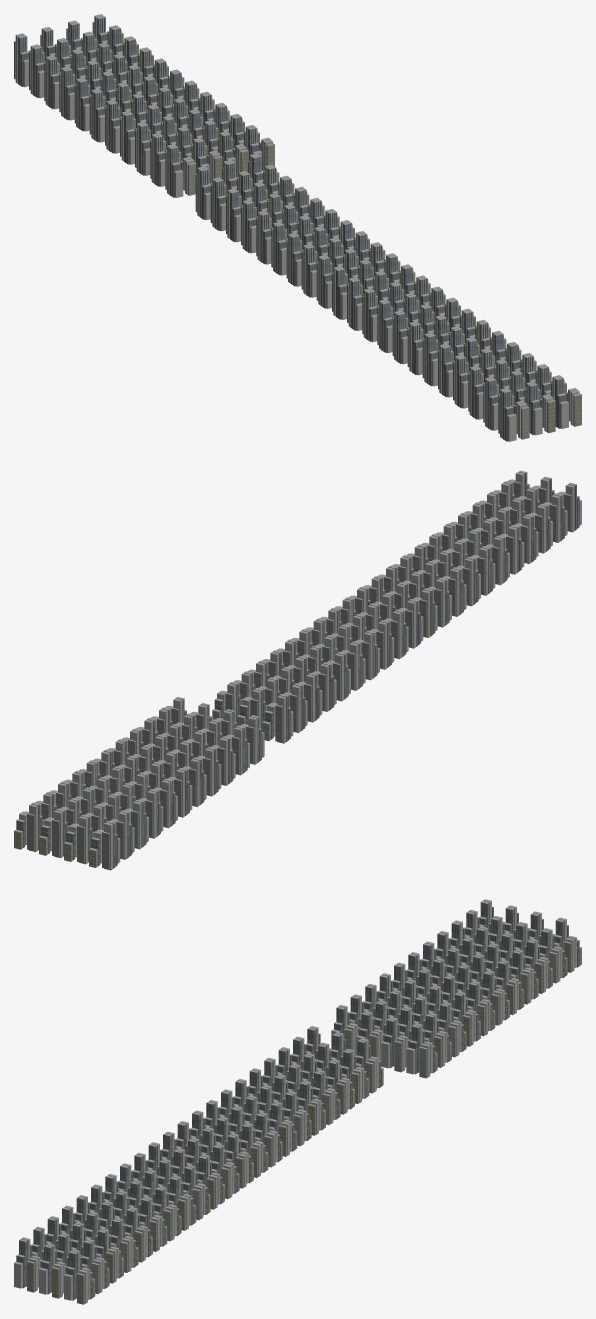
File: map2.obj
3 views of the same model, one above another, from view 1: azimuth 30°, elevation 25°; view 2: azimuth 150°, elevation 25°; view 3: azimuth 330°, elevation 25° (orthographic). The views are drawn at different scales.
Visible parts, largest first — view 1: batiments.479_Cube.1242_Cube.047, batiments.732_Cube.1242_Cube.047, batiments.127_Cube.1242_Cube.047, batiments.335_Cube.1242_Cube.047, batiments.692_Cube.1242_Cube.047, batiments.1010_Cube.1242_Cube.047, batiments.911_Cube.1242_Cube.047, batiments.600_Cube.1242_Cube.047, batiments.312_Cube.1242_Cube.047, batiments.1003_Cube.1242_Cube.047, batiments.325_Cube.1242_Cube.047, batiments.321_Cube.1242_Cube.047 (+25 smaller); view 2: batiments.305_Cube.1242_Cube.047, batiments.384_Cube.1242_Cube.047, batiments.097_Cube.1242_Cube.047, batiments.449_Cube.1242_Cube.047, batiments.041_Cube.1242_Cube.047, batiments.1012_Cube.1242_Cube.047, batiments.728_Cube.1242_Cube.047, batiments.1004_Cube.1242_Cube.047, batiments.176_Cube.1242_Cube.047, batiments.600_Cube.1242_Cube.047, batiments.312_Cube.1242_Cube.047, batiments.911_Cube.1242_Cube.047 (+25 smaller); view 3: batiments.335_Cube.1242_Cube.047, batiments.174_Cube.1242_Cube.047, batiments.733_Cube.1242_Cube.047, batiments.127_Cube.1242_Cube.047, batiments.479_Cube.1242_Cube.047, batiments.613_Cube.1242_Cube.047, batiments.1055_Cube.1242_Cube.047, batiments.465_Cube.1242_Cube.047, batiments.1034_Cube.1242_Cube.047, batiments.1002_Cube.1242_Cube.047, batiments.693_Cube.1242_Cube.047, batiments.729_Cube.1242_Cube.047 (+25 smaller).
Boxes of the visible parts, x1,y1,x2,y2 form: batiments.479_Cube.1242_Cube.047: (498, 388, 529, 441); batiments.732_Cube.1242_Cube.047: (165, 144, 196, 197); batiments.127_Cube.1242_Cube.047: (524, 381, 555, 435); batiments.335_Cube.1242_Cube.047: (551, 375, 581, 428); batiments.692_Cube.1242_Cube.047: (468, 365, 499, 419); batiments.1010_Cube.1242_Cube.047: (29, 44, 60, 98); batiments.911_Cube.1242_Cube.047: (150, 133, 181, 186); batiments.600_Cube.1242_Cube.047: (44, 55, 75, 109); batiments.312_Cube.1242_Cube.047: (256, 210, 287, 264); batiments.1003_Cube.1242_Cube.047: (362, 288, 393, 341); batiments.325_Cube.1242_Cube.047: (135, 122, 166, 175); batiments.321_Cube.1242_Cube.047: (377, 299, 408, 353); batiments.305_Cube.1242_Cube.047: (89, 820, 120, 870); batiments.384_Cube.1242_Cube.047: (262, 694, 293, 743); batiments.097_Cube.1242_Cube.047: (64, 814, 93, 864); batiments.449_Cube.1242_Cube.047: (39, 808, 68, 858); batiments.041_Cube.1242_Cube.047: (14, 802, 43, 851); batiments.1012_Cube.1242_Cube.047: (196, 746, 221, 796); batiments.728_Cube.1242_Cube.047: (297, 673, 322, 722); batiments.1004_Cube.1242_Cube.047: (398, 599, 423, 648); batiments.176_Cube.1242_Cube.047: (237, 688, 266, 728); batiments.600_Cube.1242_Cube.047: (124, 799, 148, 849); batiments.312_Cube.1242_Cube.047: (326, 651, 350, 701); batiments.911_Cube.1242_Cube.047: (225, 725, 249, 775); batiments.335_Cube.1242_Cube.047: (64, 1249, 95, 1304); batiments.174_Cube.1242_Cube.047: (406, 1023, 437, 1078); batiments.733_Cube.1242_Cube.047: (381, 1017, 410, 1072); batiments.127_Cube.1242_Cube.047: (39, 1243, 67, 1298); batiments.479_Cube.1242_Cube.047: (14, 1237, 42, 1292); batiments.613_Cube.1242_Cube.047: (269, 1101, 297, 1156); batiments.1055_Cube.1242_Cube.047: (168, 1175, 196, 1230); batiments.465_Cube.1242_Cube.047: (183, 1165, 210, 1220); batiments.1034_Cube.1242_Cube.047: (284, 1091, 311, 1146); batiments.1002_Cube.1242_Cube.047: (197, 1154, 224, 1209); batiments.693_Cube.1242_Cube.047: (96, 1228, 123, 1283); batiments.729_Cube.1242_Cube.047: (327, 1059, 354, 1114).
Bounding box in the file's own units: 13.58 × 6.17 × 117.
Materials: 20 (10 with a texture image).
